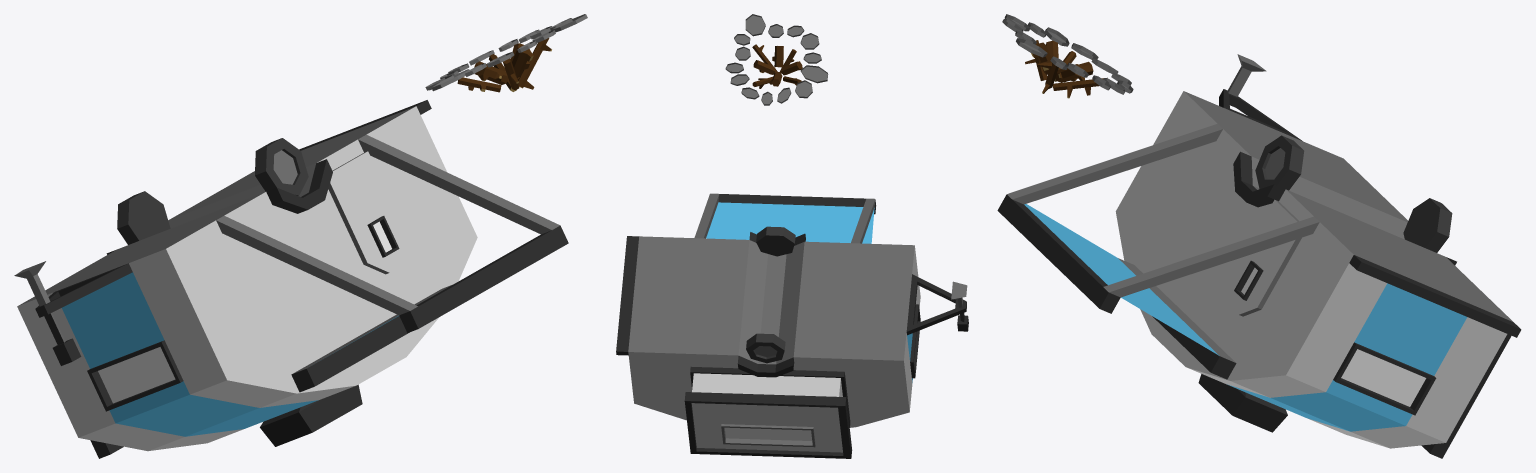
File: planet_camper.glb
3 views of the same model, side by side, from view 1: azimuth 30°, elevation 25°; view 2: azimuth 150°, elevation 25°; view 3: azimuth 270°, elevation 25° (orthographic). The views are drawn at different scales.
Parts seen in each view (by area): view 1: camper; view 2: camper; view 3: camper.
Boxes of the visible parts, x1,y1,x2,y2 form: camper: (14, 14, 587, 458); camper: (616, 14, 968, 458); camper: (997, 14, 1521, 458).
Bounding box in the file's own units: 6.86 × 6.7 × 6.71.
